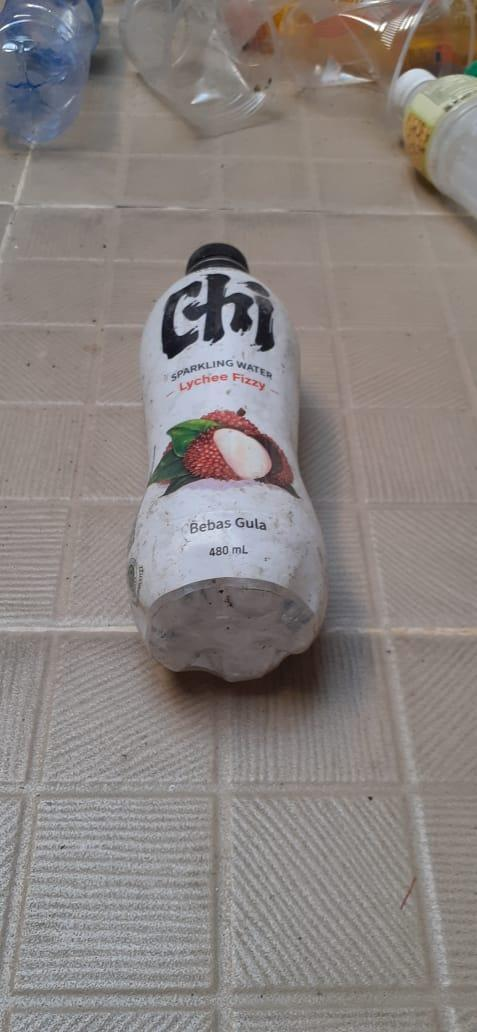Plastik: (120, 244, 330, 685), (0, 0, 107, 147), (389, 66, 477, 222)
